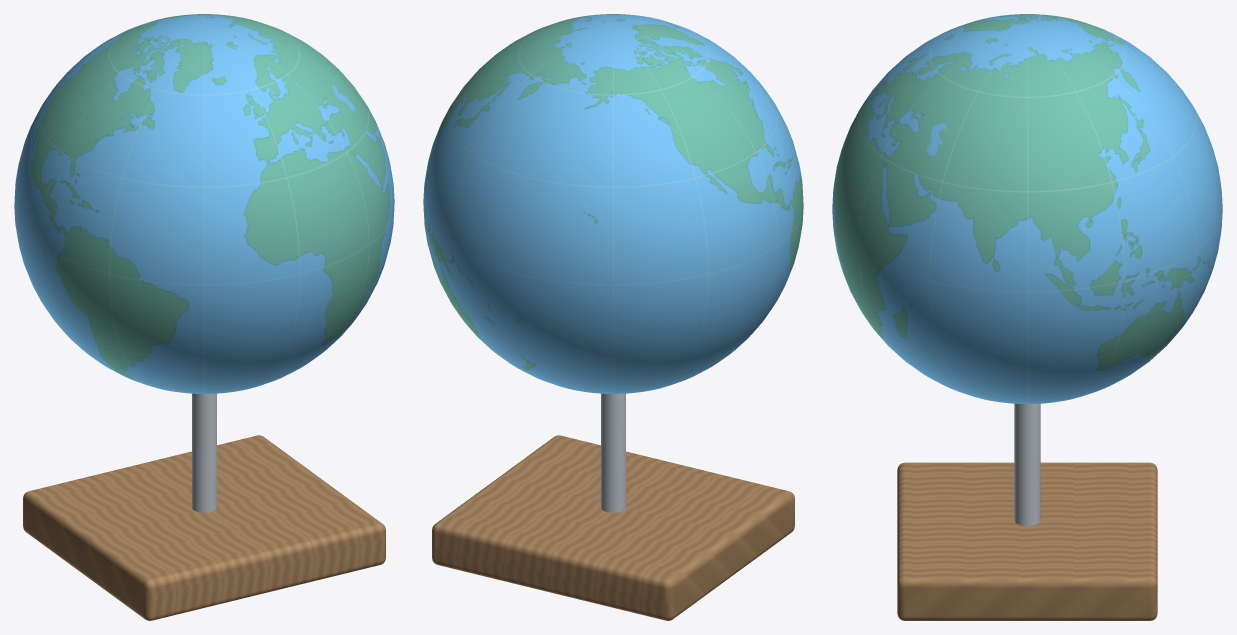
File: teaching_globe.glb
3 renders of one model, left to right at view 1: azimuth 30°, elevation 25°; view 2: azimuth 150°, elevation 25°; view 3: azimuth 270°, elevation 25°, orthographic. The views are drawn at different scales.
Parts seen in each view (by area): view 1: Globe_Sphere, Globe_Base, Globe_Stand; view 2: Globe_Sphere, Globe_Base, Globe_Stand; view 3: Globe_Sphere, Globe_Base, Globe_Stand.
Part boxes in pixels (box(x1,y1,x2,y2)): Globe_Sphere: box(14, 14, 394, 393); Globe_Base: box(23, 435, 385, 620); Globe_Stand: box(192, 393, 216, 512); Globe_Sphere: box(423, 14, 803, 393); Globe_Base: box(432, 435, 794, 620); Globe_Stand: box(601, 393, 625, 512); Globe_Sphere: box(832, 14, 1222, 404); Globe_Base: box(897, 462, 1157, 620); Globe_Stand: box(1014, 403, 1040, 525).
Size of the model in its own units: 0.3 by 0.45 by 0.3.
3 materials, 2 textured.
